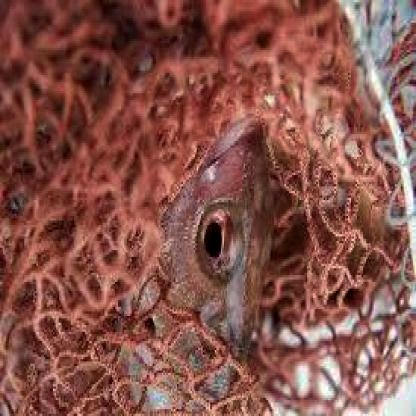net: (4, 2, 416, 406)
